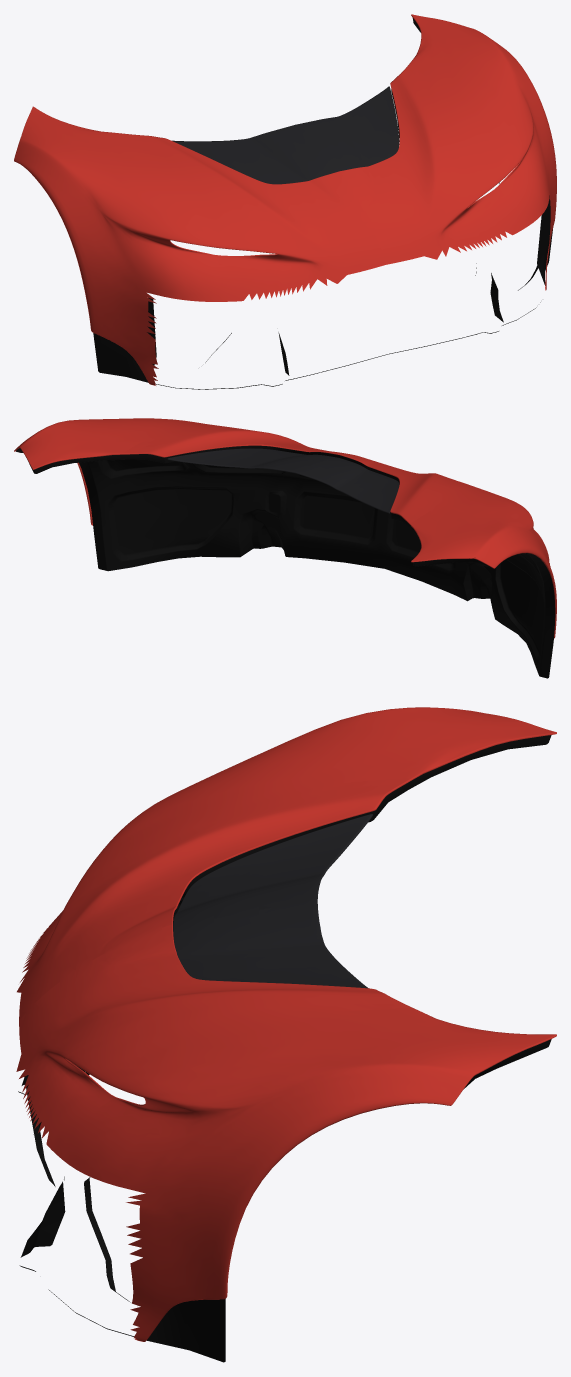
Rendered from vela_hood_domed.glb.
3 renders of one model, top to bottom at view 1: azimuth 30°, elevation 25°; view 2: azimuth 150°, elevation 25°; view 3: azimuth 270°, elevation 25°, orthographic. The views are drawn at different scales.
Parts seen in each view (by area): view 1: hood.001, hood_vent.001, hood_inner.001; view 2: hood_inner.001, hood.001, hood_vent.001; view 3: hood.001, hood_vent.001, hood_inner.001.
Boxes of the visible parts, x1,y1,x2,y2 form: hood.001: (14, 14, 556, 385); hood_vent.001: (172, 86, 399, 184); hood_inner.001: (93, 18, 552, 389); hood_inner.001: (16, 445, 555, 678); hood.001: (14, 418, 556, 638); hood_vent.001: (167, 448, 399, 513); hood.001: (16, 707, 556, 1341); hood_vent.001: (173, 814, 372, 988); hood_inner.001: (18, 735, 551, 1362).
Size of the model in its own units: 1.94 by 0.7084 by 1.16.
